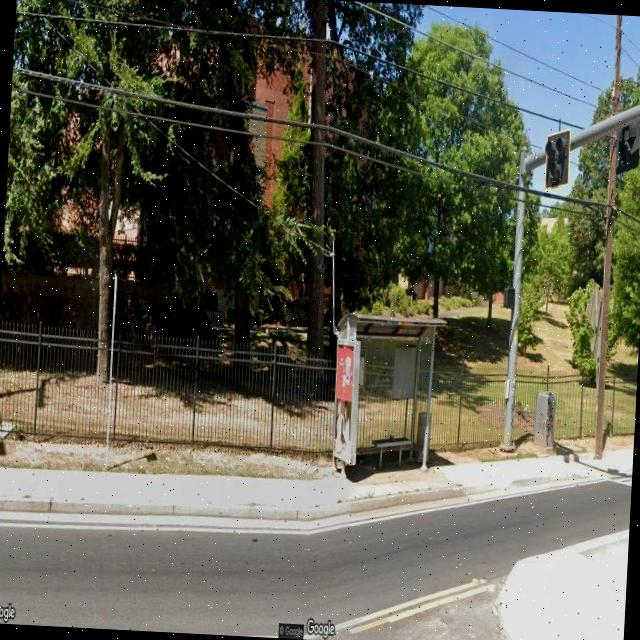seating: (372, 436, 412, 472)
shelter: (328, 309, 448, 482)
trash_can: (415, 411, 431, 463)
